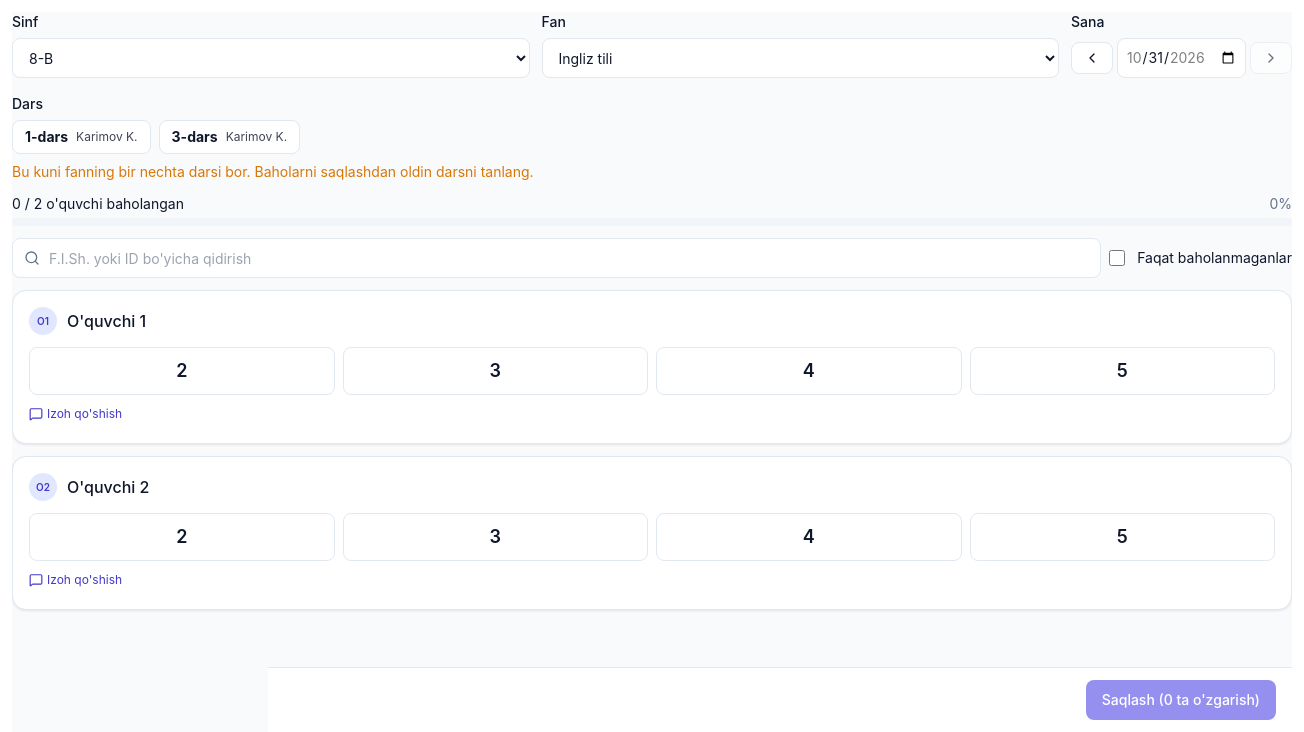
Test: SubjectGradingPanel: dars tanlagich › bir nechta dars: chiplar ko`rinadi, dars tanlanmaguncha saqlab bo`lmaydi
This screenshot has width=1304, height=732.
Expected: the message with test id "lesson-required" is shown, [12, 163, 534, 180]
Click the 1st radio button labelled "5": (1122, 371) [970, 347, 1275, 395]
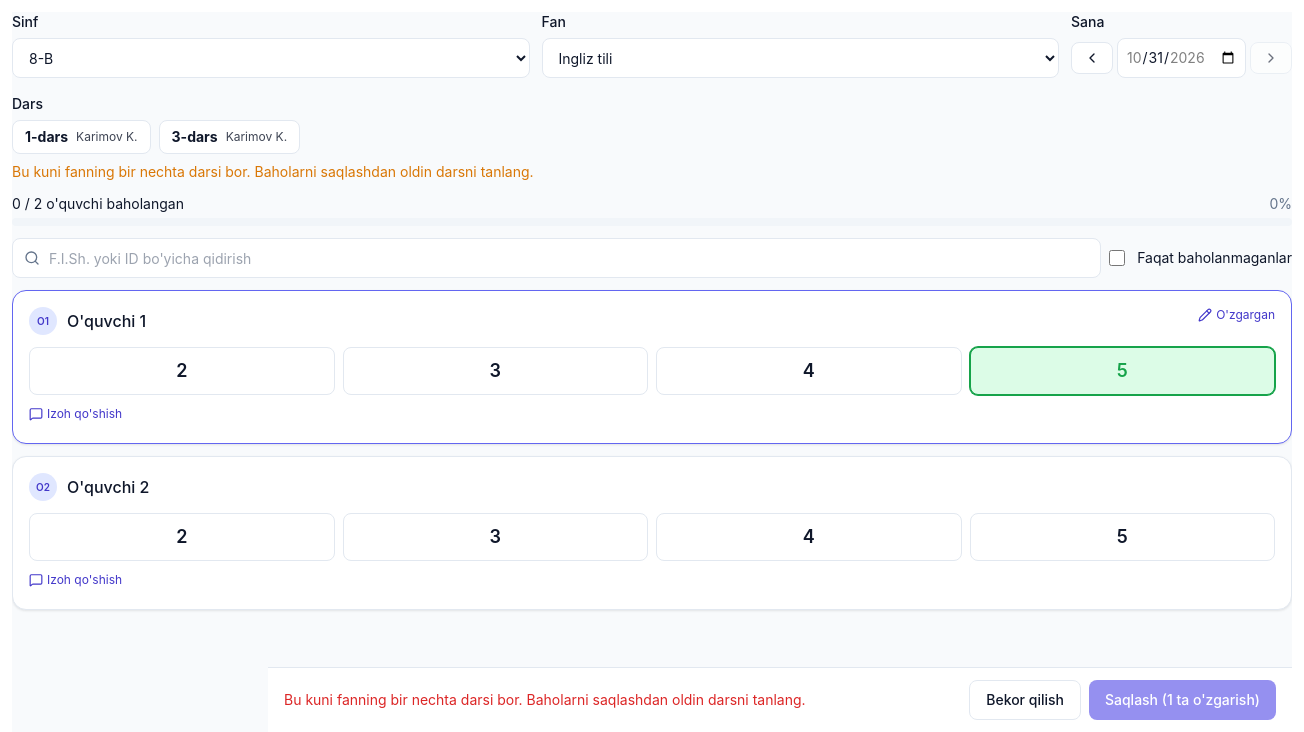
Expected: the button "Saqlash (1 ta o'zgarish)" is disabled, [1089, 680, 1276, 720]
Now the text with test id "save-bar-message" shows "darsni tanlang", box [284, 691, 806, 708]
